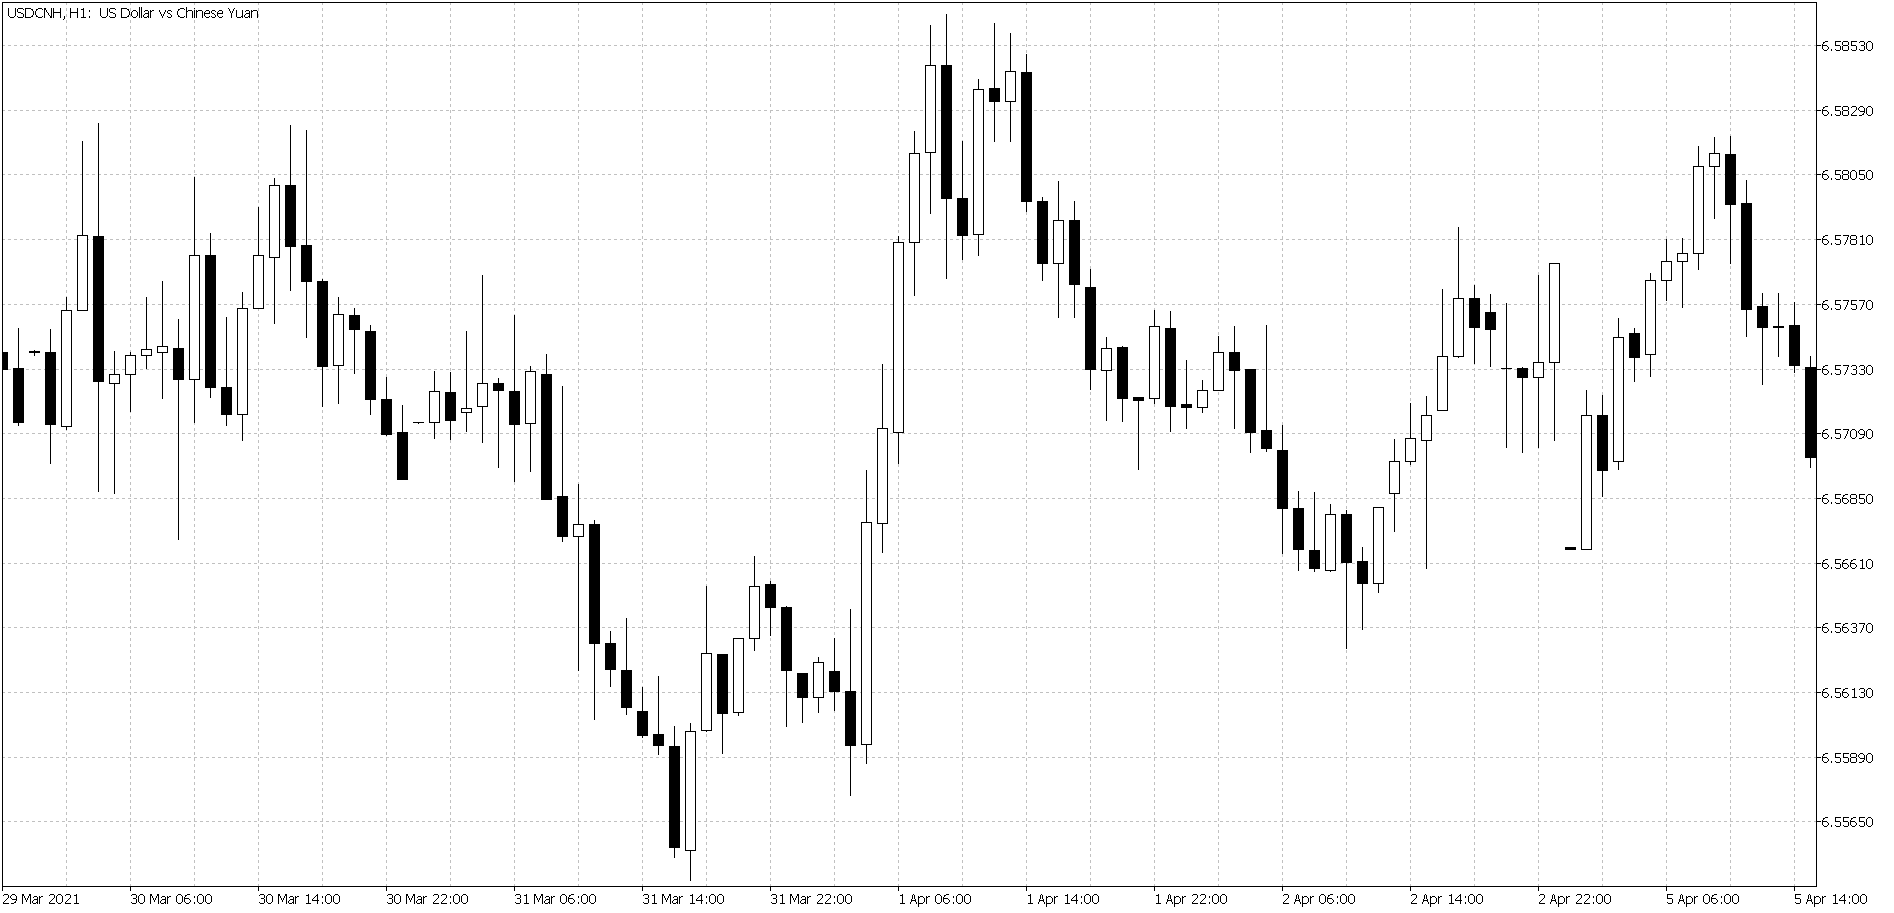3blackcrows: (283, 133, 330, 408)
3whitesoldiers: (858, 238, 907, 770)
bullishEngulfing: (666, 719, 701, 886)
eveningStar: (1691, 121, 1738, 306)
